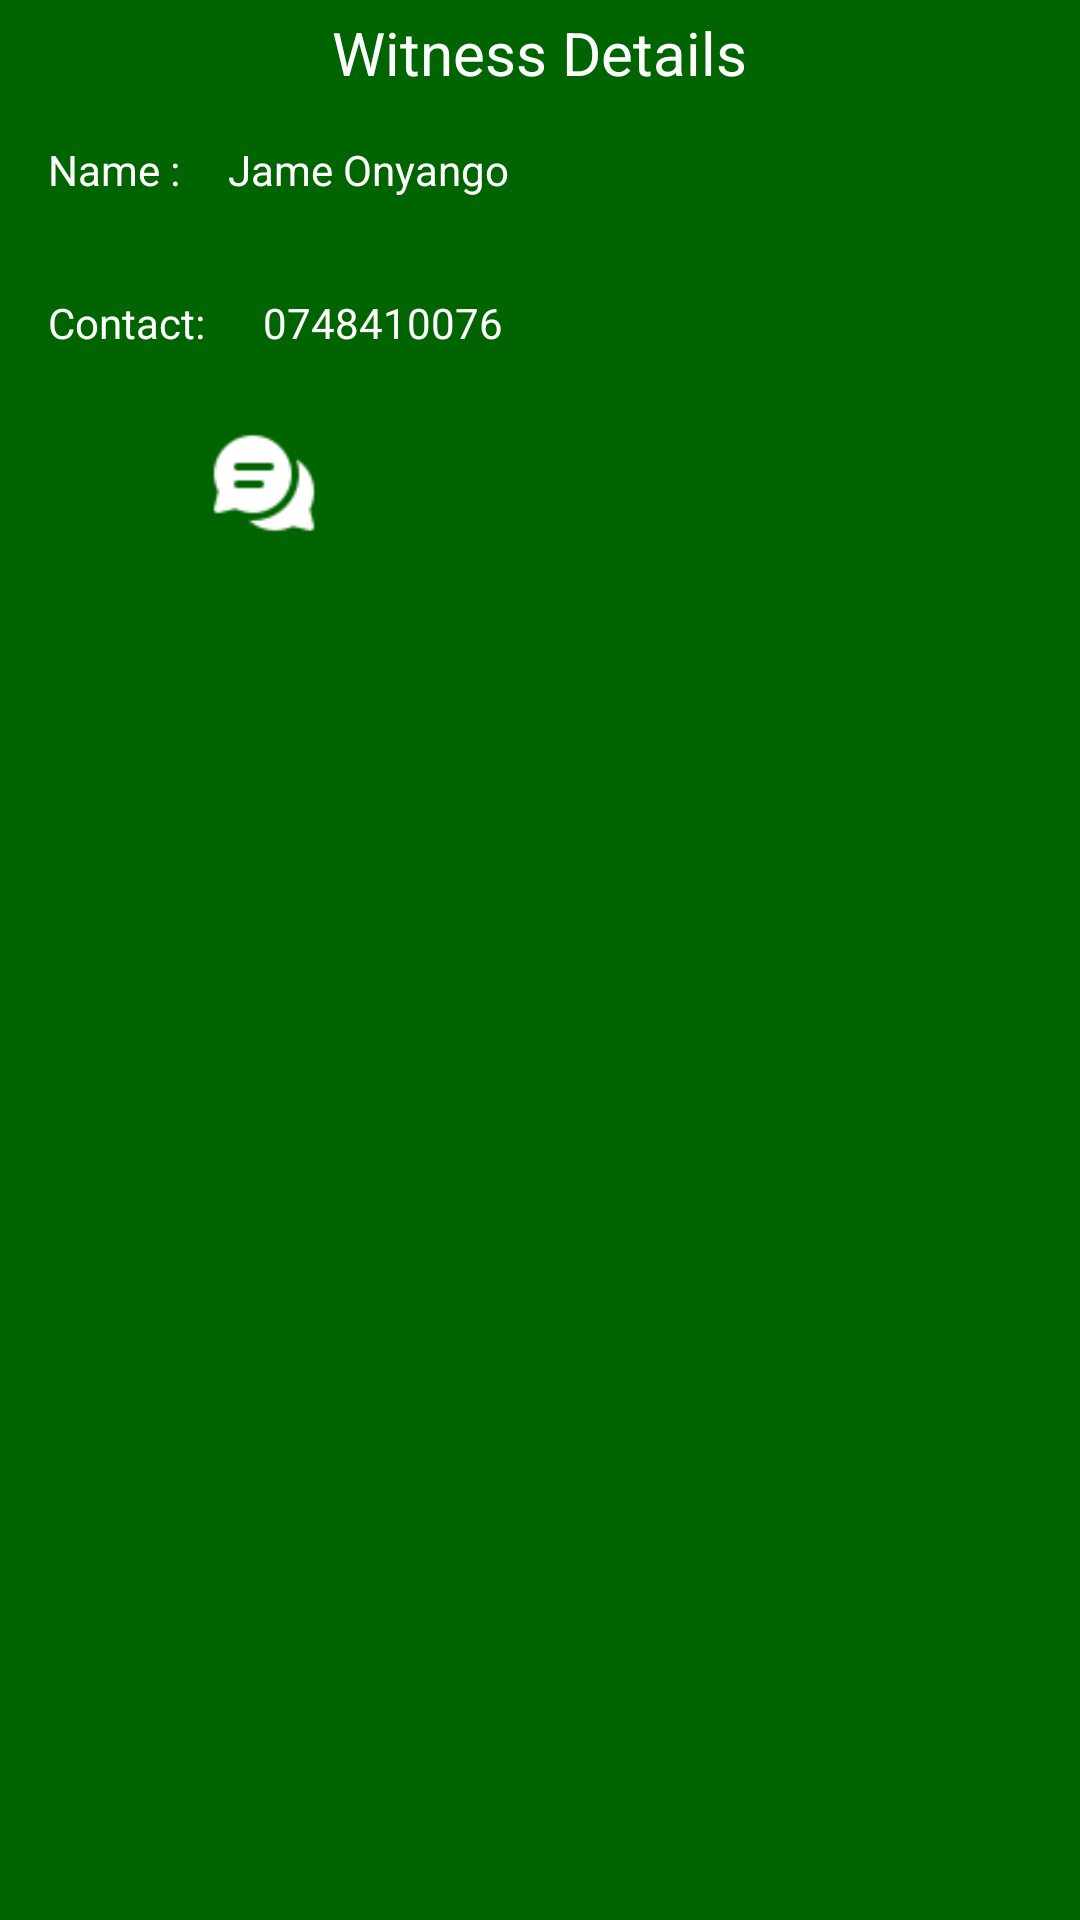

Icon click points for this 1080*1920 phone screenshot, format (x,y):
mesaages: (264,483)
